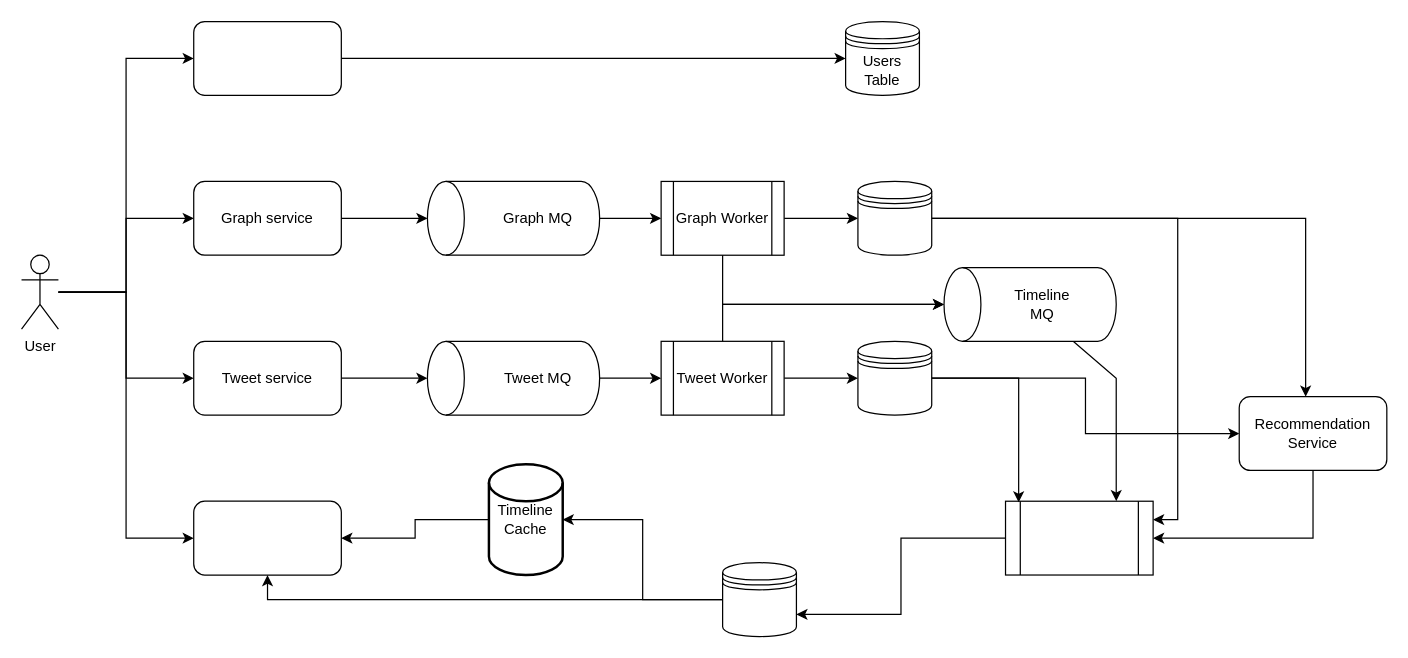
Image size: 1408x658. Some labels were removed from this diagram. Here are the shapes that lost their labels. From the top down, the centre of each, then its label:
the point at 266,57: Profile service
the point at 894,217: Follow Table
the point at 894,377: Tweets Table
the point at 266,537: Timeline service
the point at 1078,537: Timeline Worker
the point at 758,599: Timeline Table
